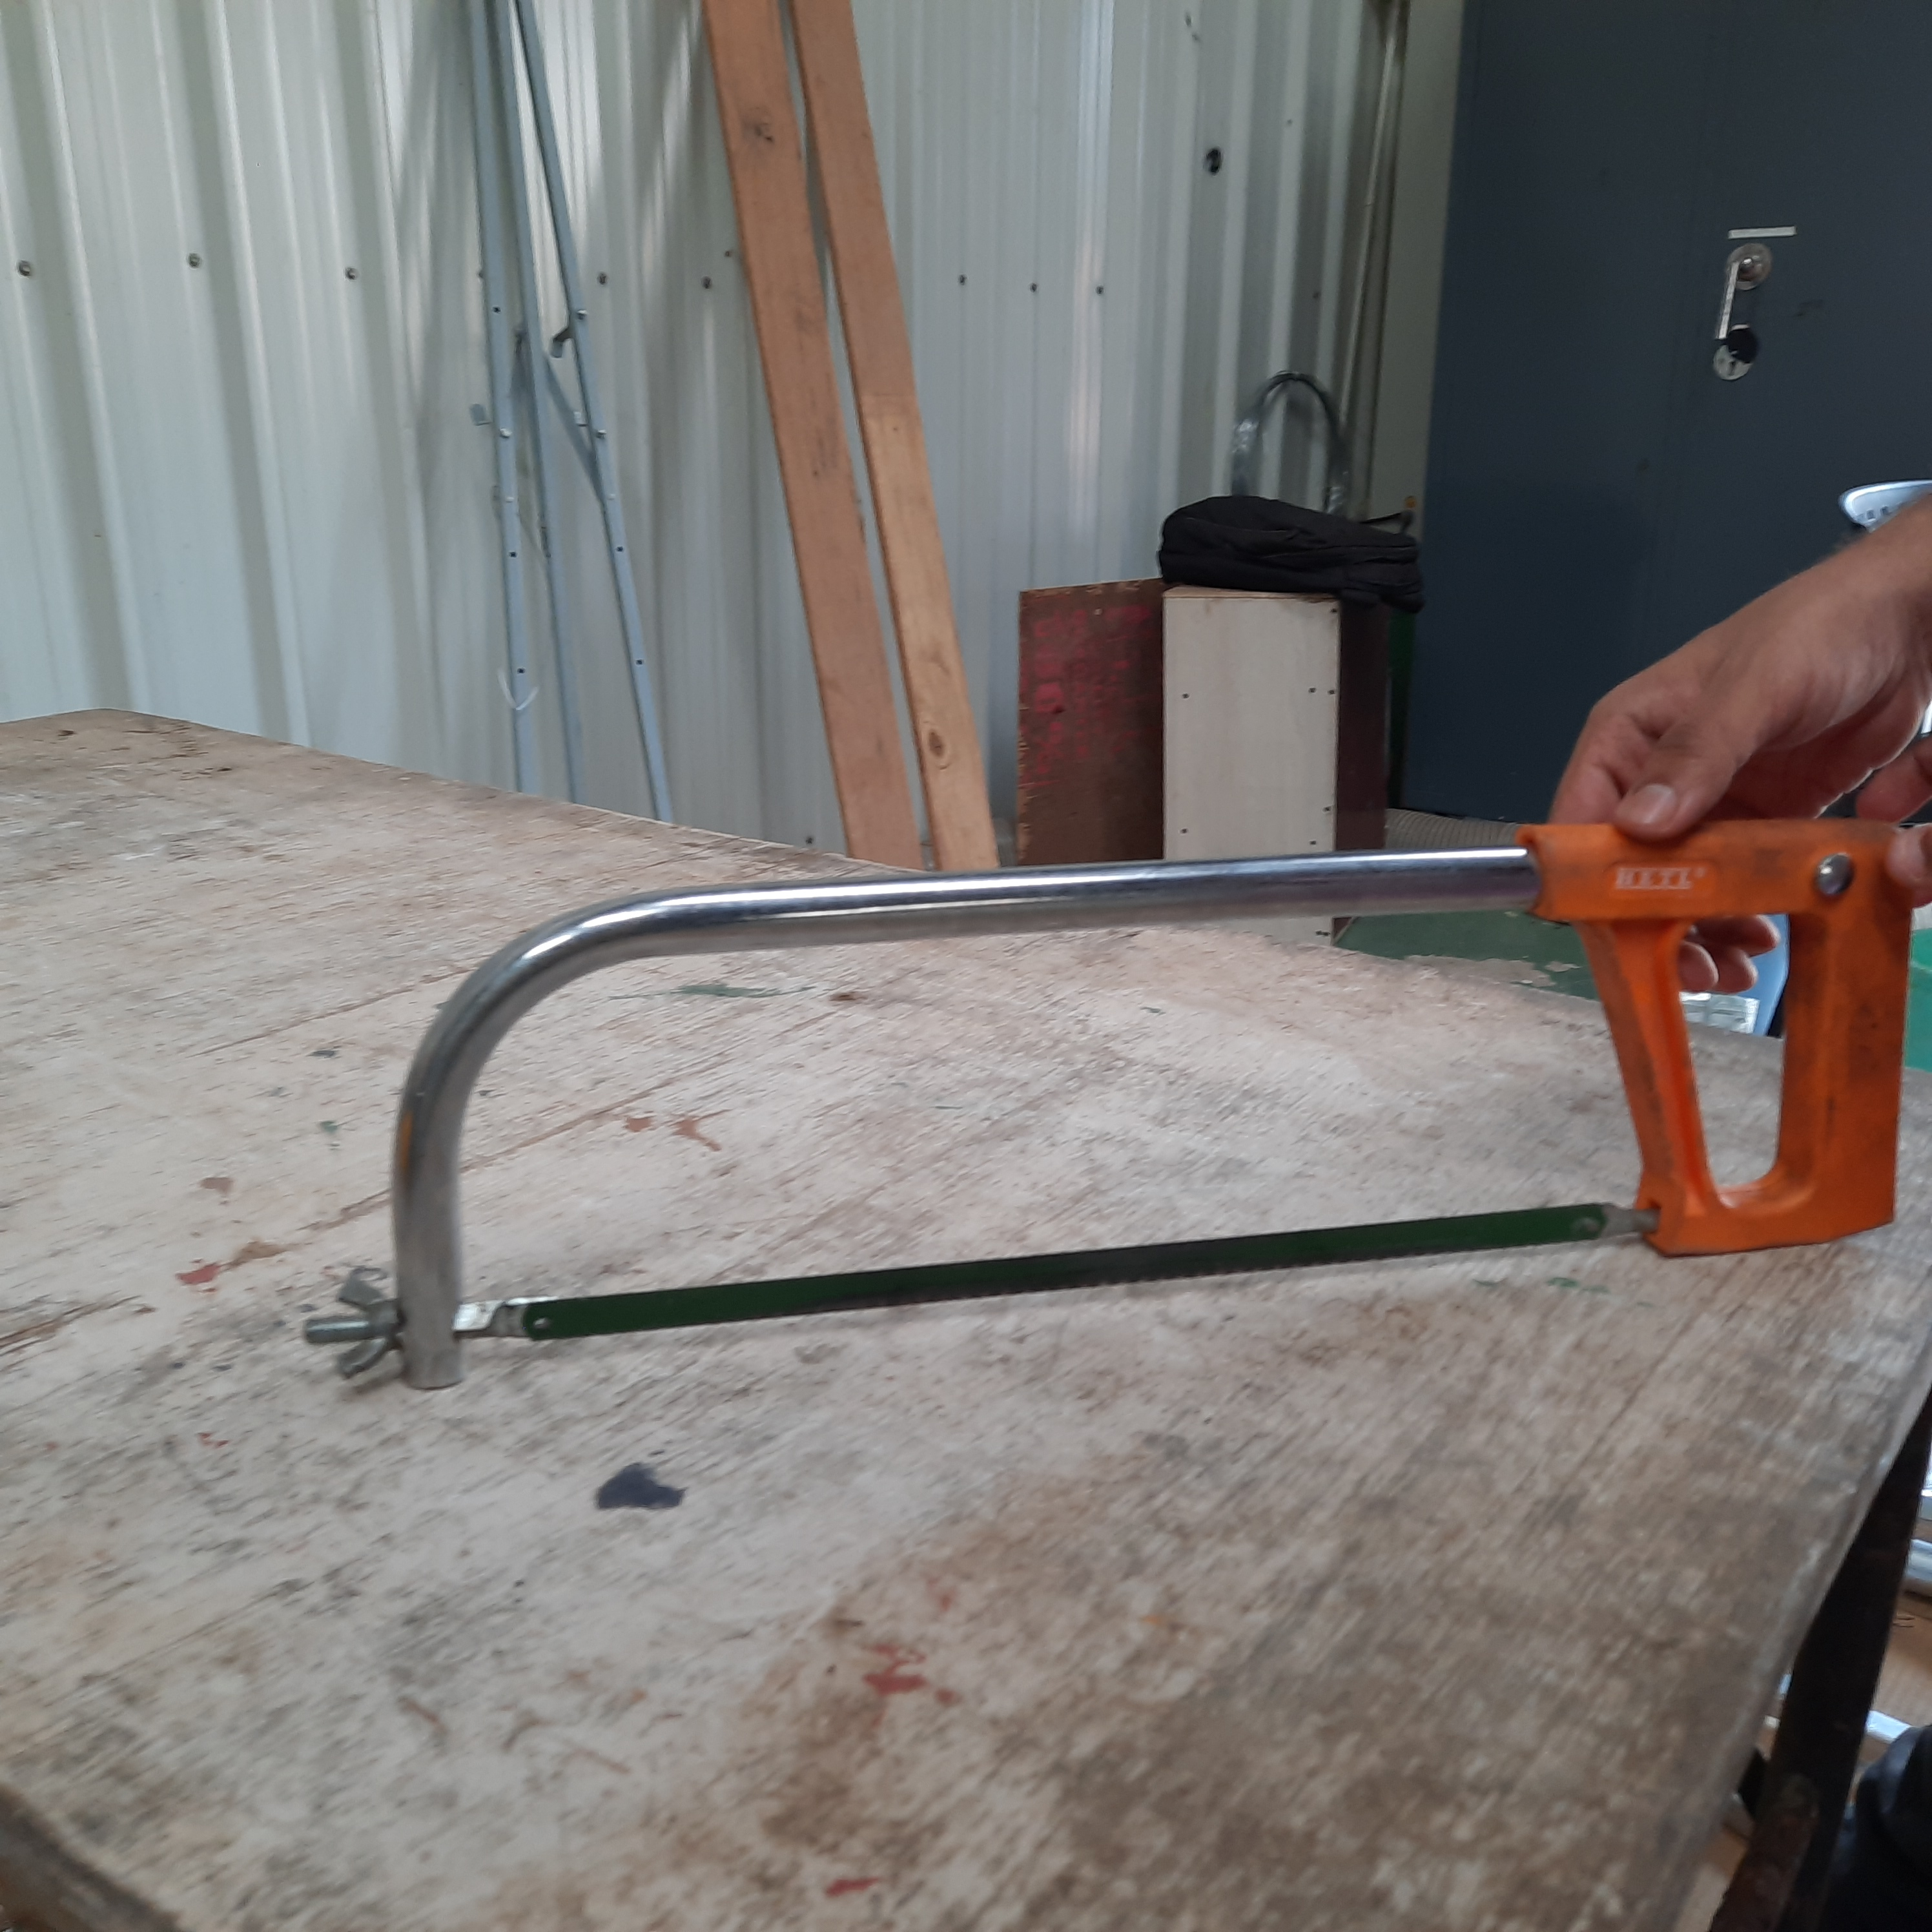Hexaframe: (290, 833, 1932, 1392)
